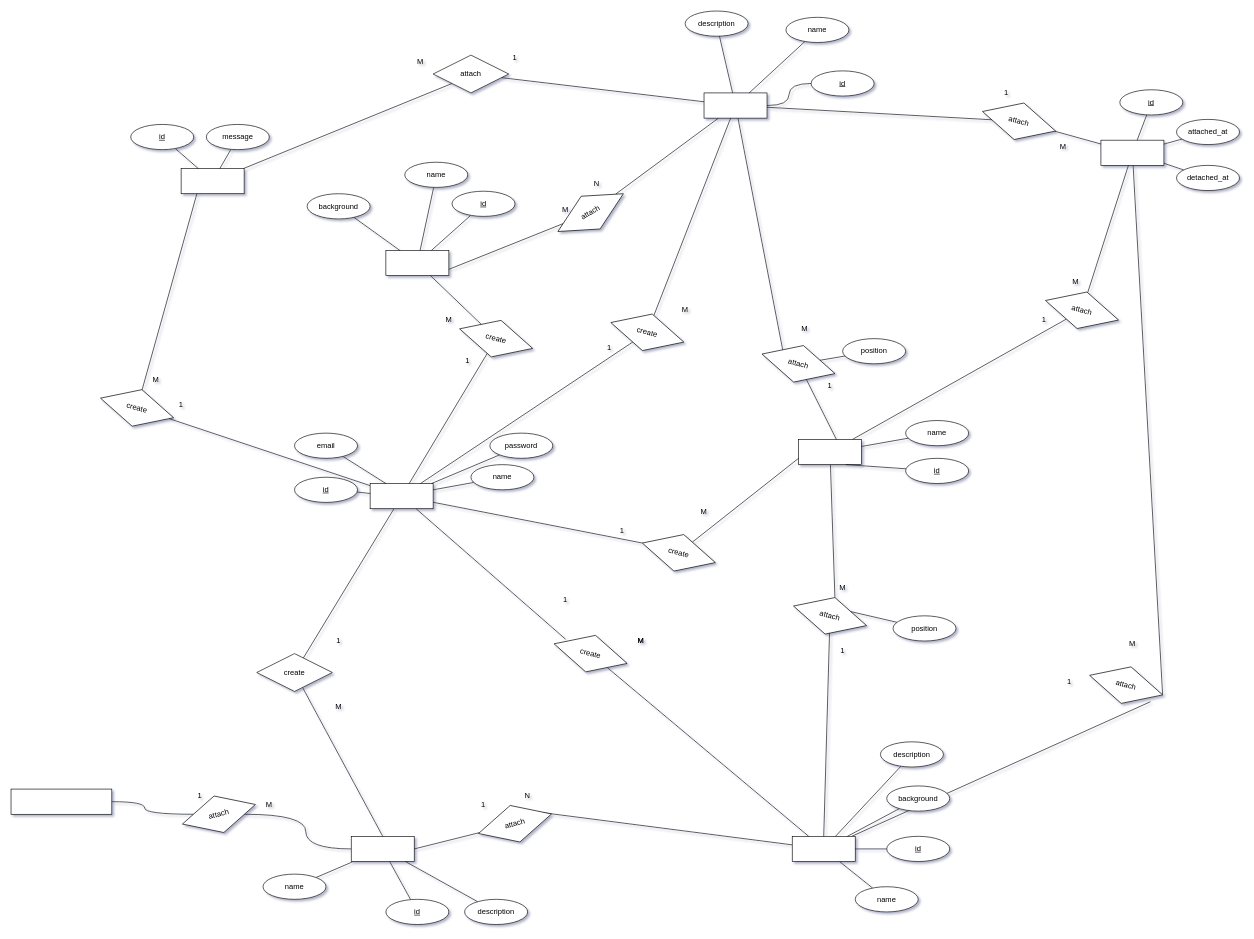
This 1254x939 diagram has some shape labels left out. Each missing label, with the centre of its shape:
Bord: the point at 823,849
Comment: the point at 212,181
Label: the point at 417,263
List: the point at 830,452
Task: the point at 735,105
TaskHistory: the point at 1132,152
User: the point at 401,496
Workspace: the point at 382,849
WorkspaceType: the point at 61,801
